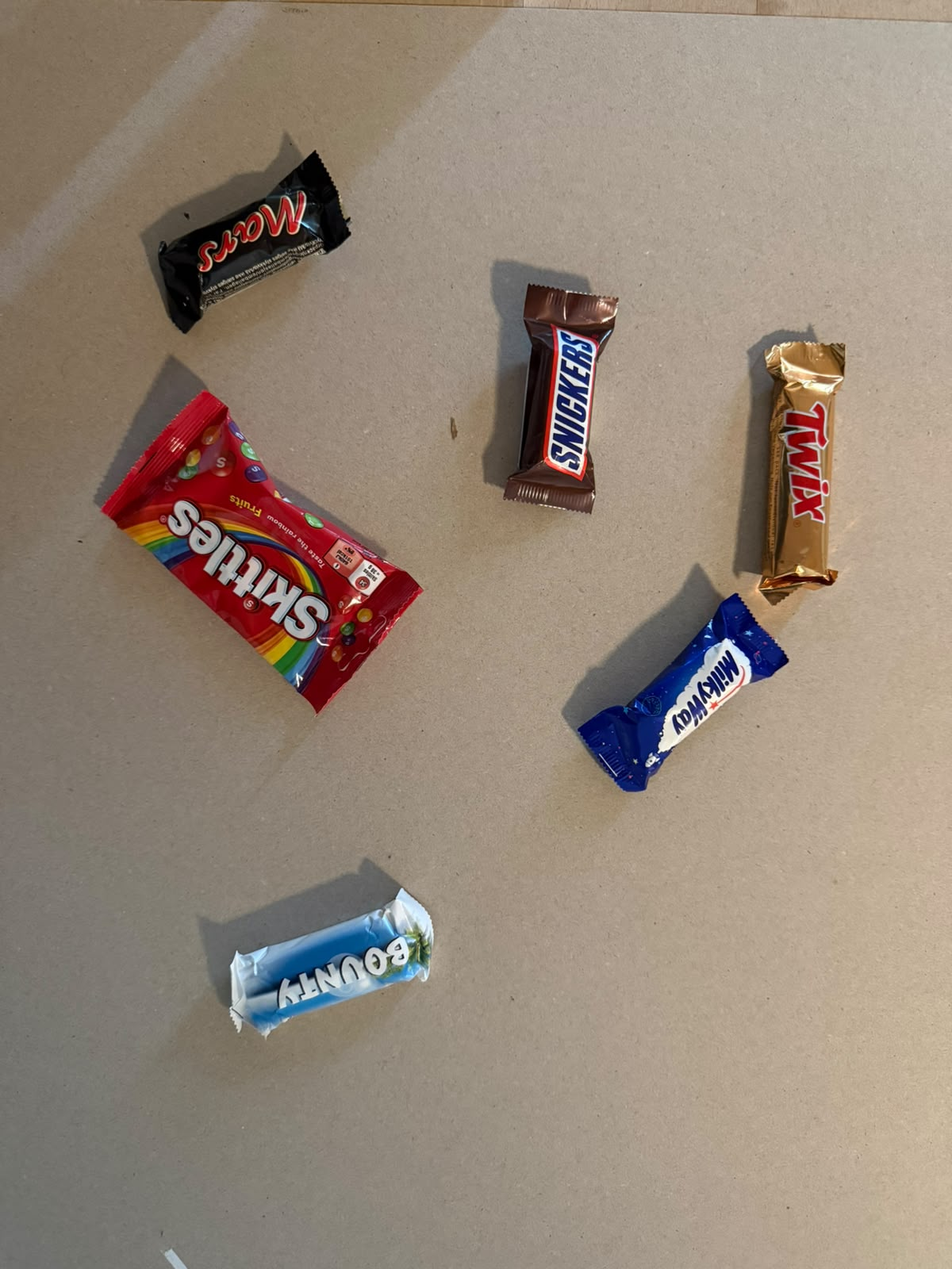Bounty: (173, 968, 470, 1091)
Mars: (102, 263, 364, 375)
MilkyWay: (517, 756, 816, 881)
Skittles: (37, 508, 245, 882)
Snickers: (521, 259, 638, 514)
Twix: (755, 312, 853, 614)
